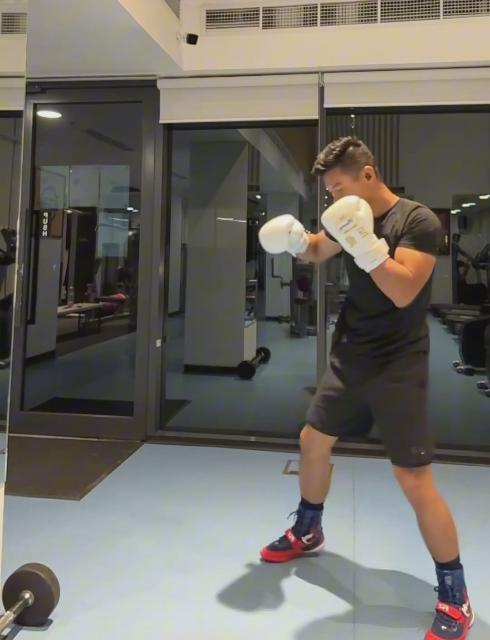punch: (259, 136, 477, 640)
